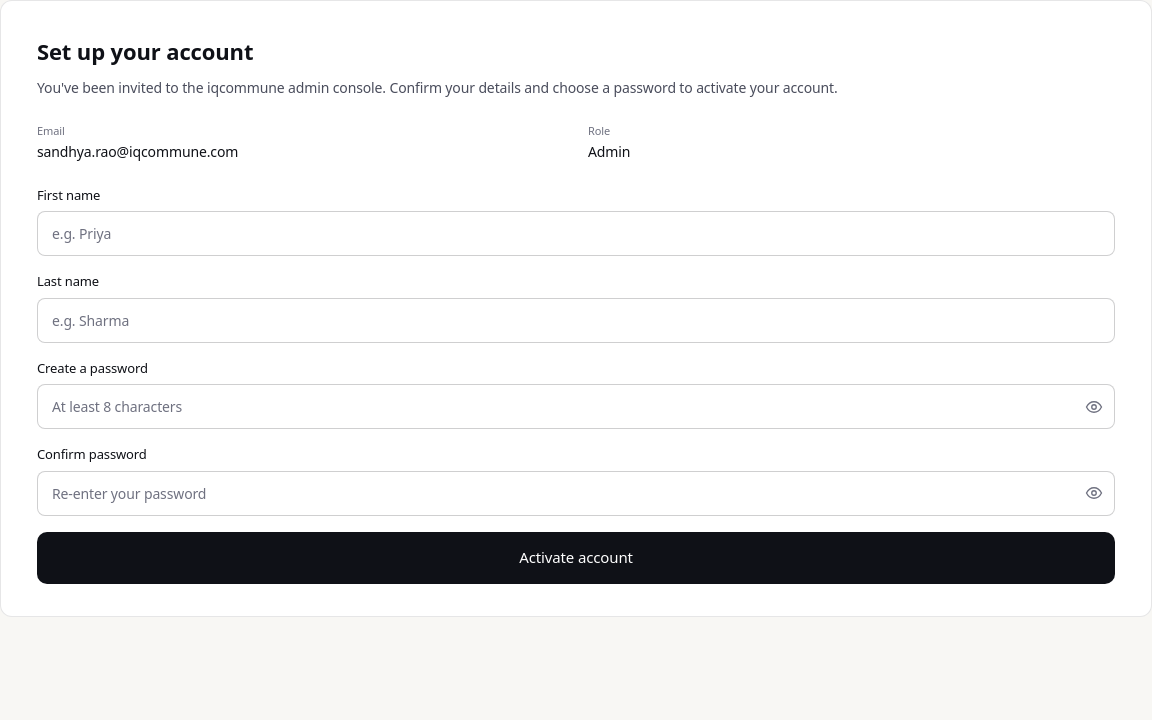
AccountSetupForm › rejects a password under eight characters
In the field labelled "First name": (576, 234) left=37, top=211, right=1115, bottom=256, type "Priya"
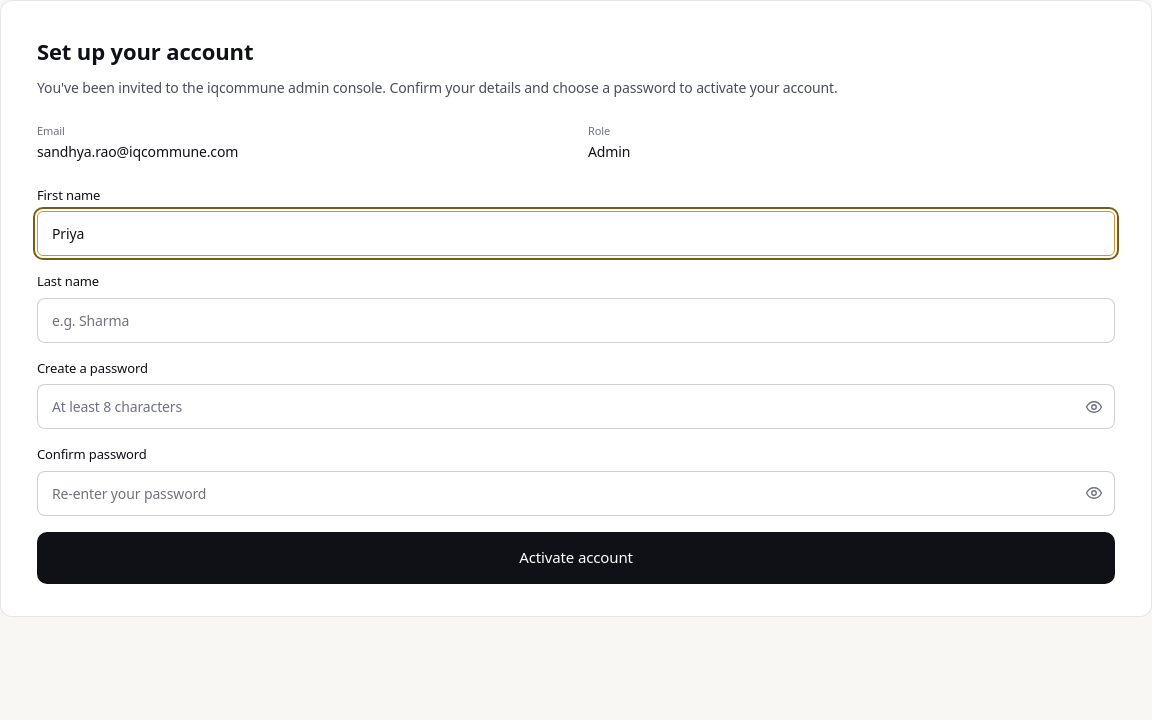
In the field labelled "Last name": (576, 320) left=37, top=298, right=1115, bottom=343, type "Sharma"
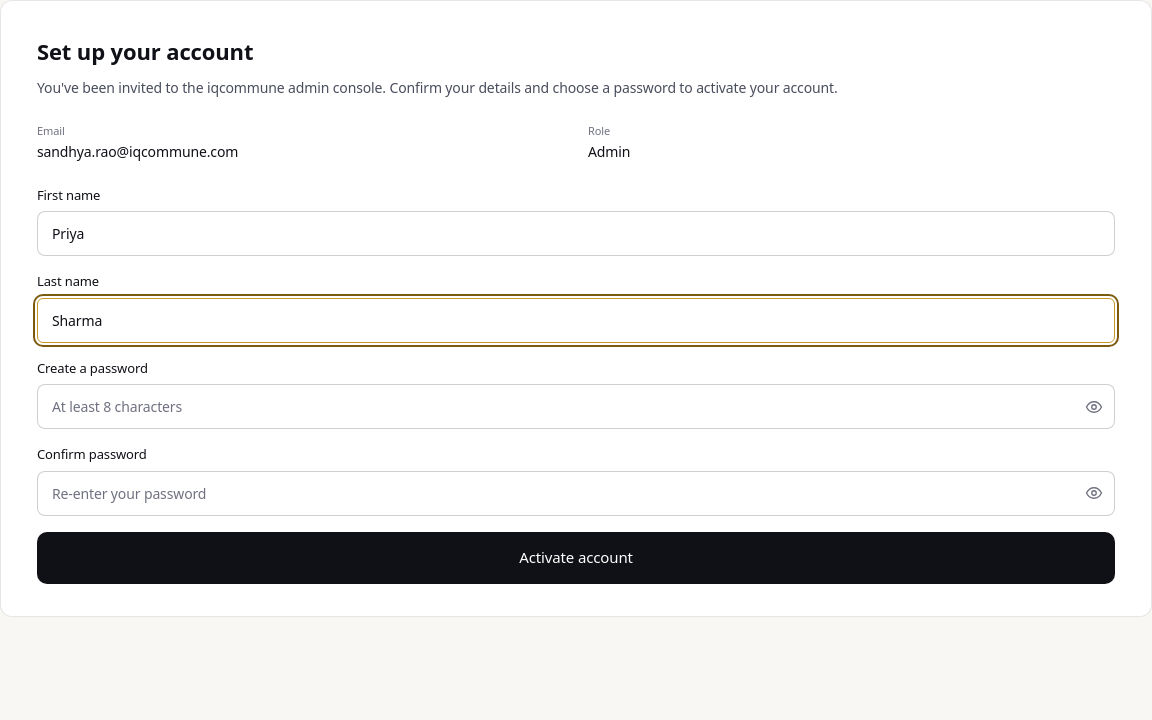
In the password field labelled "Create a password": (576, 407) left=37, top=384, right=1115, bottom=429, type "short"
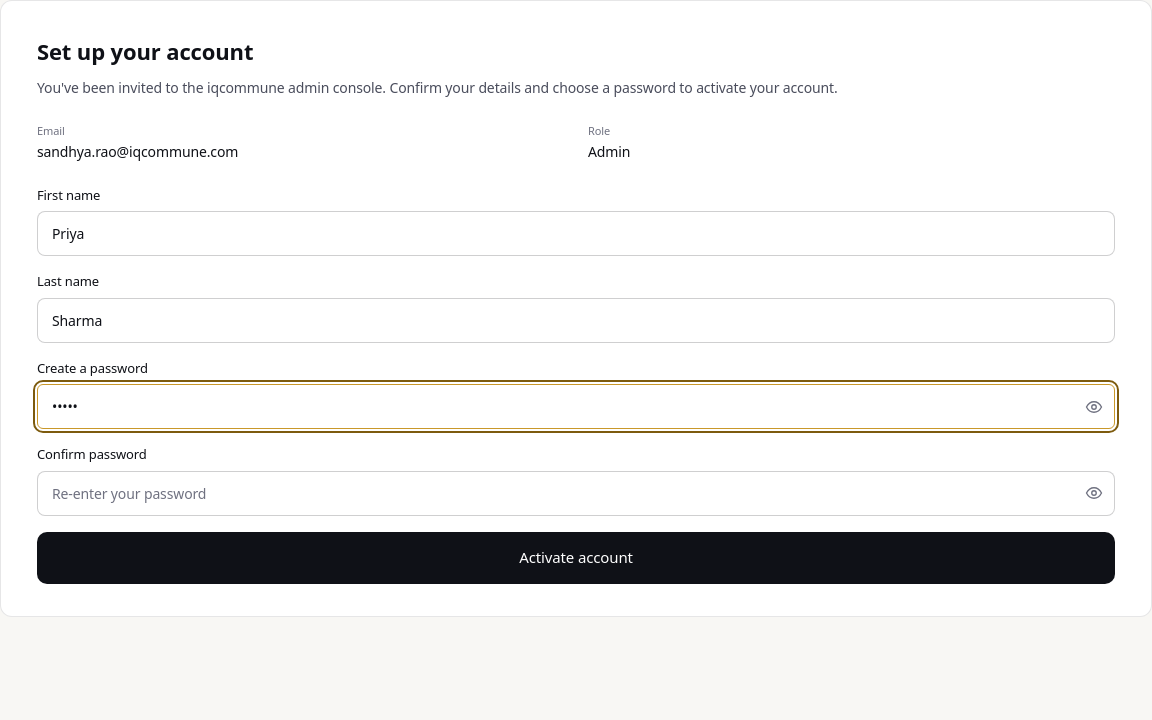
In the password field labelled "Confirm password": (576, 493) left=37, top=471, right=1115, bottom=516, type "short"
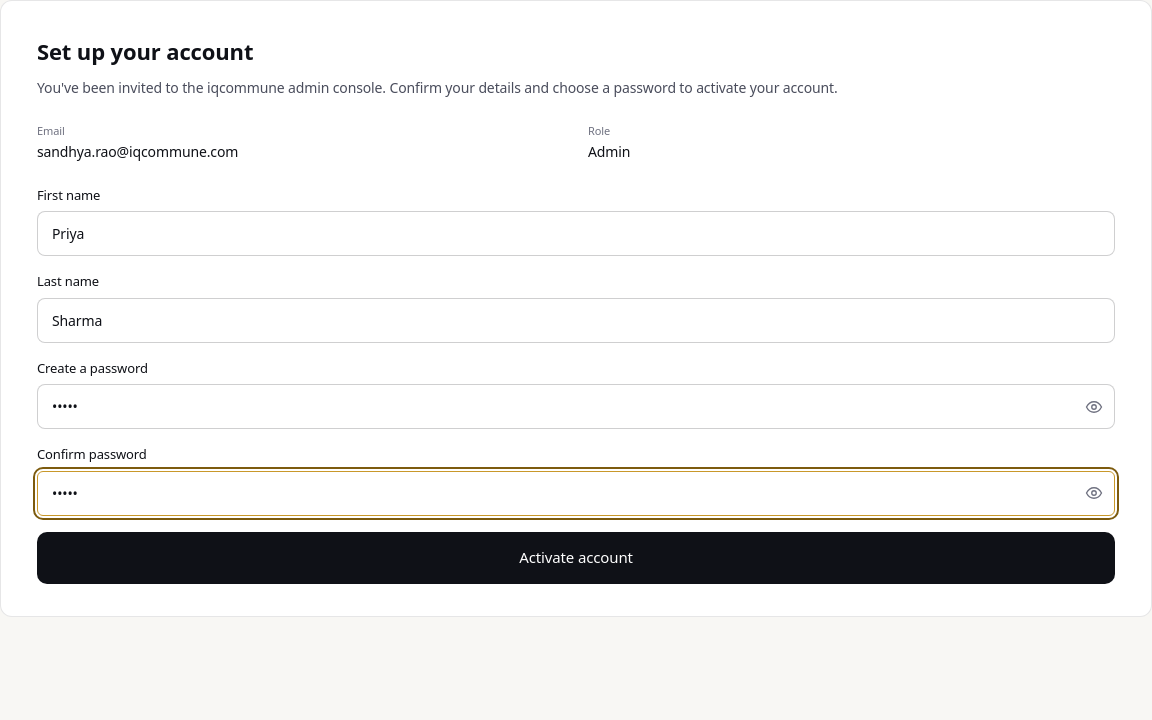
Click the button "Activate account": (576, 558) left=37, top=532, right=1115, bottom=584
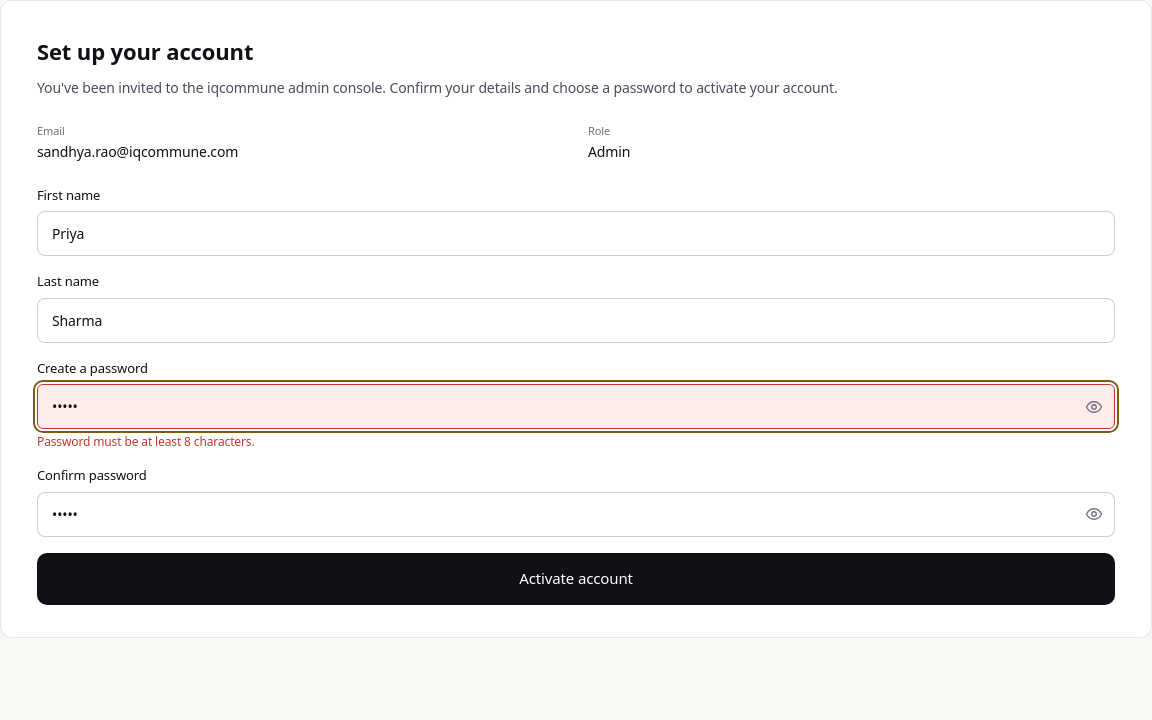
Check: the text "Password must be at least 8 characters." is shown, box left=37, top=433, right=254, bottom=450
